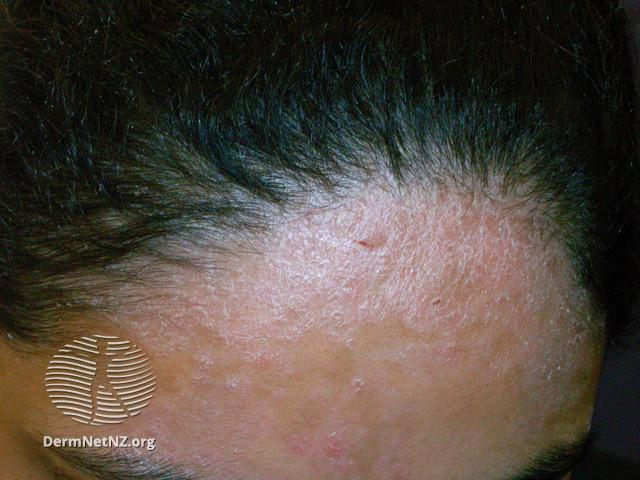Psoriasis: (105, 165, 619, 480)
